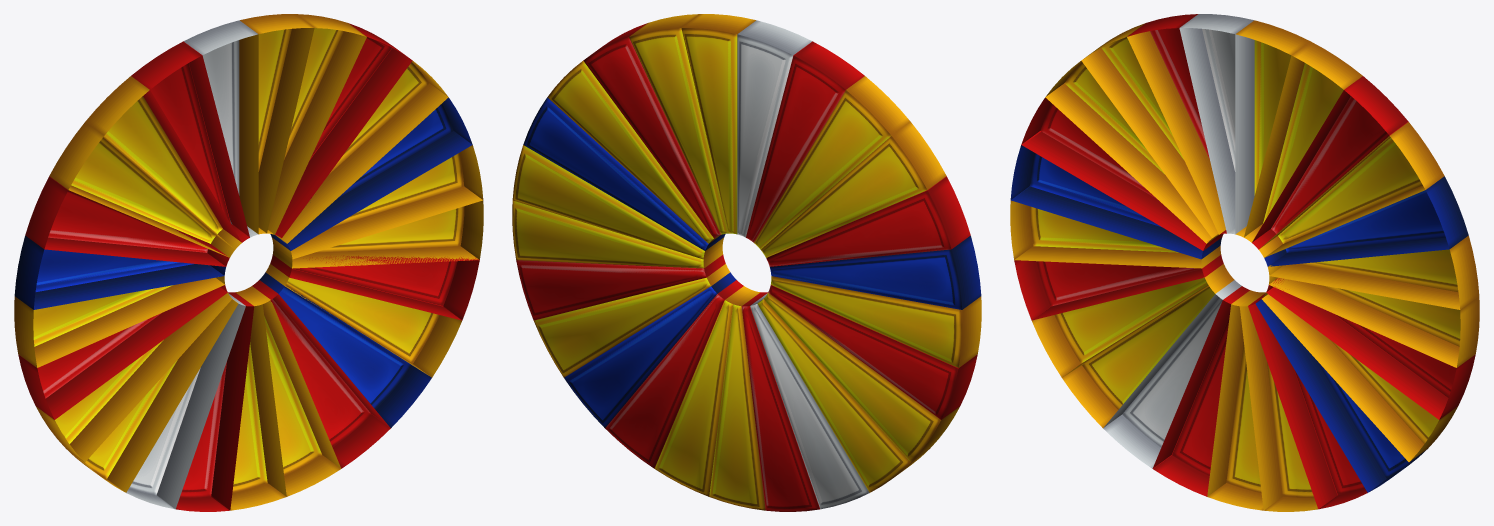
The model's file is Paris Jackpot Wheel.FBX.
The picture shows the model from 3 angles, left to right: view 1: azimuth 30°, elevation 25°; view 2: azimuth 150°, elevation 25°; view 3: azimuth 330°, elevation 25°; orthographic projection.
Parts seen in each view (by area): view 1: Paris Jackpot Wheel Piece 25, Paris Jackpot Wheel Piece 14, Paris Jackpot Wheel Piece 02, Paris Jackpot Wheel Piece 05, Paris Jackpot Wheel Piece 04, Paris Jackpot Wheel Piece 06, Paris Jackpot Wheel Piece 07, Paris Jackpot Wheel Piece 18, Paris Jackpot Wheel Piece 08, Paris Jackpot Wheel Piece 24, Paris Jackpot Wheel Piece 09, Paris Jackpot Wheel Piece 16 (+13 smaller); view 2: Paris Jackpot Wheel Piece 04, Paris Jackpot Wheel Piece 03, Paris Jackpot Wheel Piece 05, Paris Jackpot Wheel Piece 02, Paris Jackpot Wheel Piece 06, Paris Jackpot Wheel Piece 01, Paris Jackpot Wheel Piece 07, Paris Jackpot Wheel Piece 25, Paris Jackpot Wheel Piece 08, Paris Jackpot Wheel Piece 24, Paris Jackpot Wheel Piece 09, Paris Jackpot Wheel Piece 17 (+13 smaller); view 3: Paris Jackpot Wheel Piece 03, Paris Jackpot Wheel Piece 01, Paris Jackpot Wheel Piece 13, Paris Jackpot Wheel Piece 22, Paris Jackpot Wheel Piece 23, Paris Jackpot Wheel Piece 21, Paris Jackpot Wheel Piece 24, Paris Jackpot Wheel Piece 20, Paris Jackpot Wheel Piece 19, Paris Jackpot Wheel Piece 18, Paris Jackpot Wheel Piece 17, Paris Jackpot Wheel Piece 09 (+13 smaller).
Part boxes in pixels (x1,y1,x2,y2): Paris Jackpot Wheel Piece 25: (239,14,314,234); Paris Jackpot Wheel Piece 14: (244,286,341,496); Paris Jackpot Wheel Piece 02: (131,41,249,242); Paris Jackpot Wheel Piece 05: (25,176,229,266); Paris Jackpot Wheel Piece 04: (49,122,234,257); Paris Jackpot Wheel Piece 06: (14,235,225,309); Paris Jackpot Wheel Piece 07: (14,276,224,367); Paris Jackpot Wheel Piece 18: (270,255,479,320); Paris Jackpot Wheel Piece 08: (18,285,227,419); Paris Jackpot Wheel Piece 24: (258,14,366,234); Paris Jackpot Wheel Piece 09: (36,293,231,462); Paris Jackpot Wheel Piece 16: (259,272,431,427); Paris Jackpot Wheel Piece 04: (761,122,946,257); Paris Jackpot Wheel Piece 03: (754,76,910,249); Paris Jackpot Wheel Piece 05: (766,176,970,266); Paris Jackpot Wheel Piece 02: (746,41,864,242); Paris Jackpot Wheel Piece 06: (770,235,981,309); Paris Jackpot Wheel Piece 01: (737,20,812,237); Paris Jackpot Wheel Piece 07: (771,276,981,367); Paris Jackpot Wheel Piece 25: (681,14,755,234); Paris Jackpot Wheel Piece 08: (768,285,977,419); Paris Jackpot Wheel Piece 24: (629,14,728,234); Paris Jackpot Wheel Piece 09: (764,293,959,462); Paris Jackpot Wheel Piece 17: (534,264,729,377); Paris Jackpot Wheel Piece 03: (1081,23,1225,238); Paris Jackpot Wheel Piece 01: (1179,14,1254,234); Paris Jackpot Wheel Piece 13: (1207,290,1282,510); Paris Jackpot Wheel Piece 22: (1259,122,1444,257); Paris Jackpot Wheel Piece 23: (1252,76,1408,249); Paris Jackpot Wheel Piece 21: (1264,176,1468,266); Paris Jackpot Wheel Piece 24: (1244,41,1362,242); Paris Jackpot Wheel Piece 20: (1268,235,1479,309); Paris Jackpot Wheel Piece 19: (1269,265,1479,367); Paris Jackpot Wheel Piece 18: (1266,278,1475,419); Paris Jackpot Wheel Piece 17: (1262,293,1457,462); Paris Jackpot Wheel Piece 09: (1032,264,1227,377).
Size of the model in its own units: 202 by 202 by 16.32.
